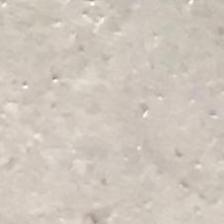Non_Crack: (20, 42, 203, 195)
